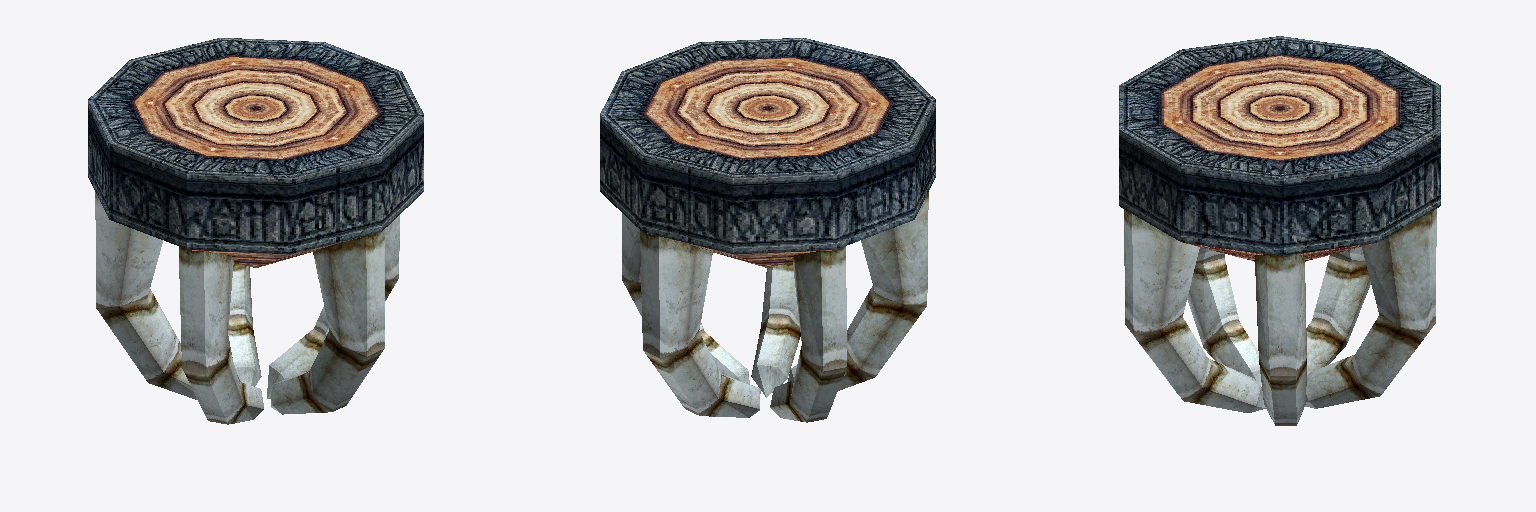
3 renders of one model, left to right at view 1: azimuth 30°, elevation 25°; view 2: azimuth 150°, elevation 25°; view 3: azimuth 270°, elevation 25°, orthographic.
Parts seen in each view (by area): view 1: obj1, obj2; view 2: obj1, obj2; view 3: obj1, obj2.
Boxes of the visible parts, <box> form: obj1: <box>88,102,423,424</box>; obj2: <box>88,38,423,176</box>; obj1: <box>600,102,935,422</box>; obj2: <box>600,38,935,176</box>; obj1: <box>1119,130,1440,425</box>; obj2: <box>1119,36,1440,178</box>.
Size of the model in its own units: 15 by 14.53 by 14.27.
3 materials, 3 textured.